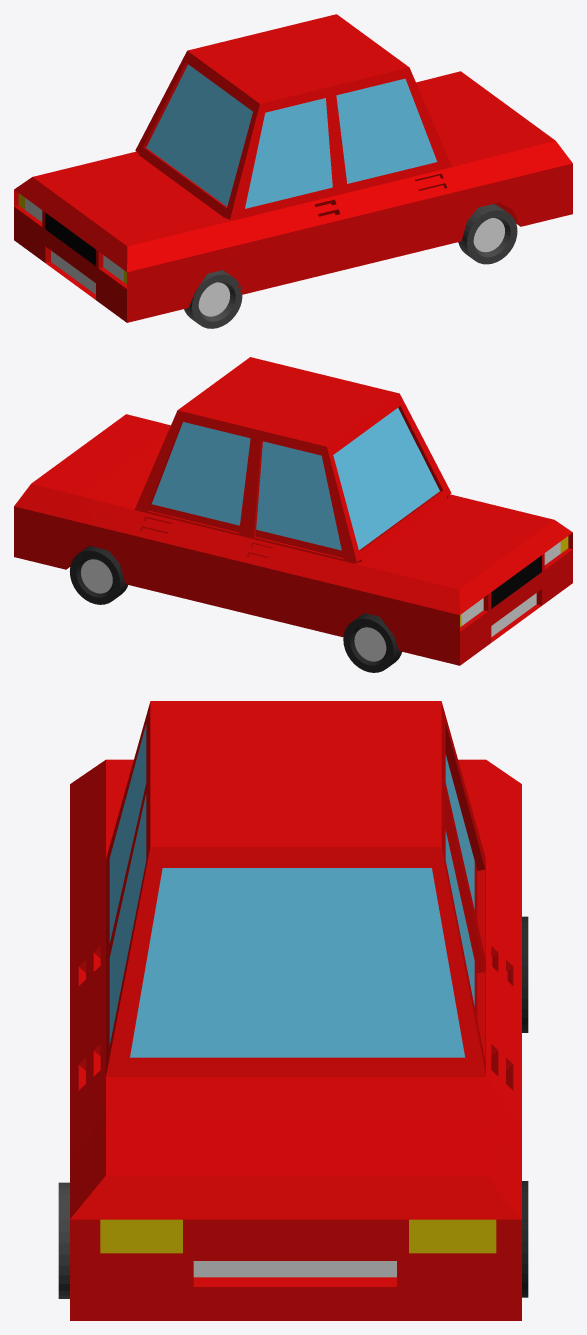
File: car.glb
3 views of the same model, one above another, from view 1: azimuth 30°, elevation 25°; view 2: azimuth 150°, elevation 25°; view 3: azimuth 270°, elevation 25° (orthographic). The views are drawn at different scales.
Parts seen in each view (by area): view 1: Cube, Cylinder.002, Cylinder.004; view 2: Cube, Cylinder.001, Cylinder.000; view 3: Cube, Cylinder.002, Cylinder.000, Cylinder.001.
Boxes of the visible parts, x1,y1,x2,y2 form: Cube: (14,14,572,322); Cylinder.002: (458,204,517,264); Cylinder.004: (184,270,242,328); Cube: (14,357,572,665); Cylinder.001: (343,613,401,672); Cylinder.000: (69,546,127,604); Cube: (70,701,521,1320); Cylinder.002: (58,1182,69,1298); Cylinder.000: (522,1181,528,1297); Cylinder.001: (522,916,528,1032).
Size of the model in its own units: 4.56 by 1.9 by 2.08.
